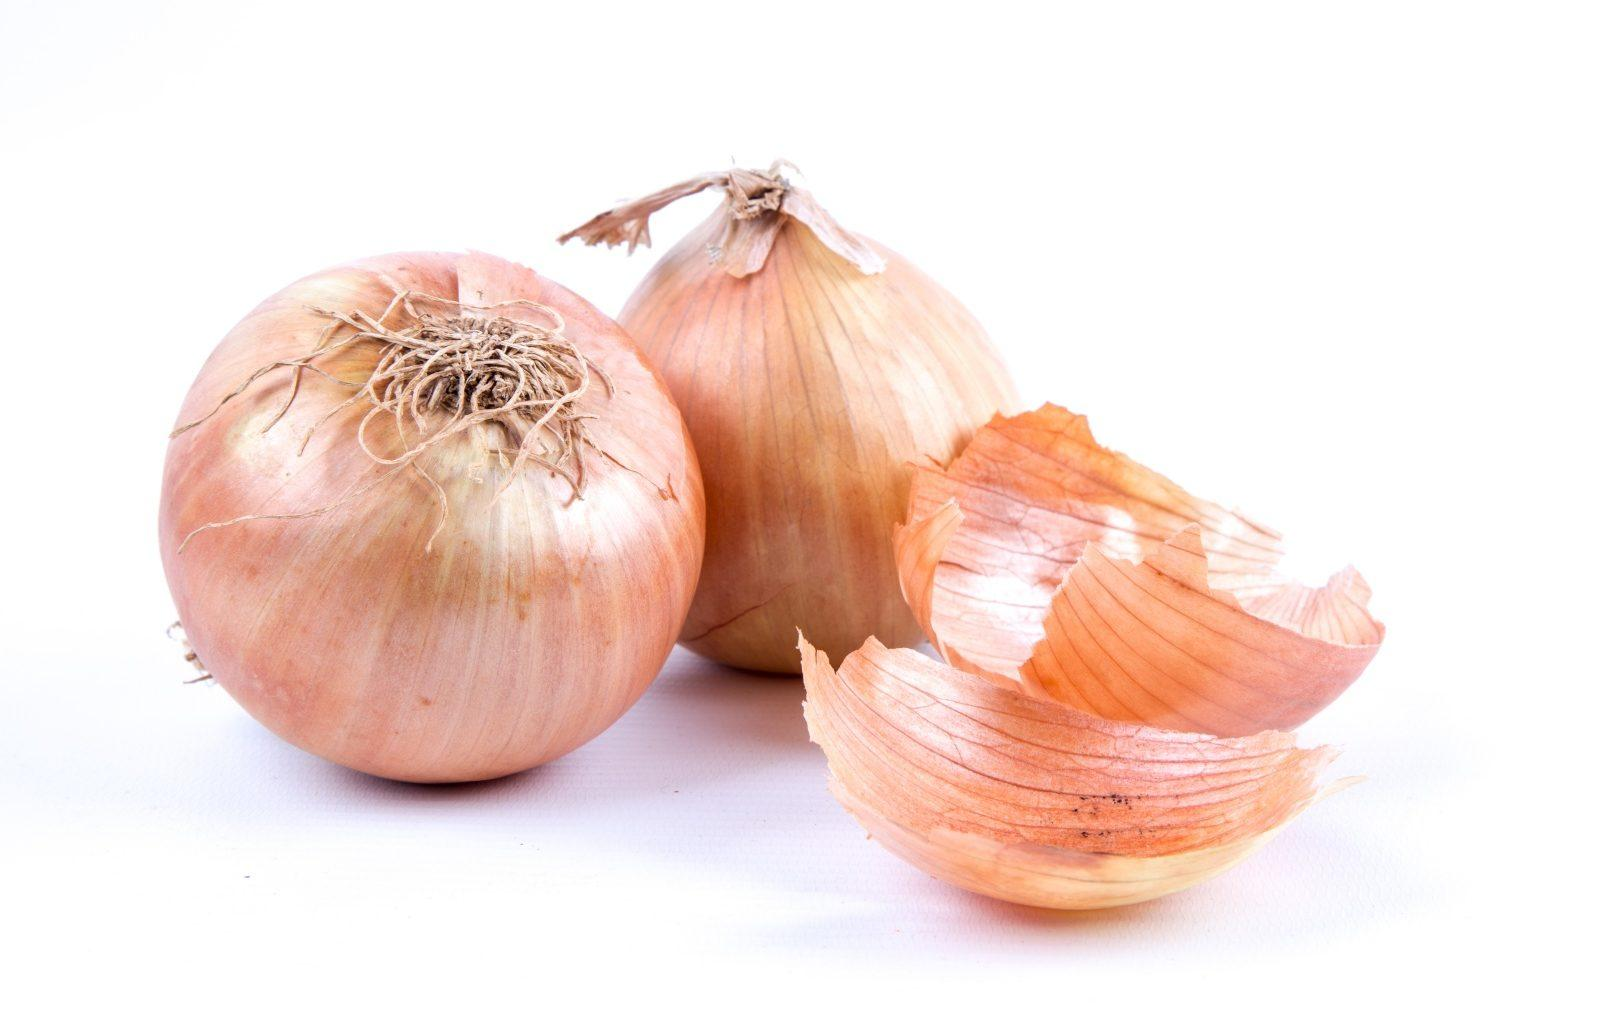onion: (156, 247, 708, 785), (555, 157, 1021, 677), (891, 400, 1385, 738), (791, 625, 1360, 912)
